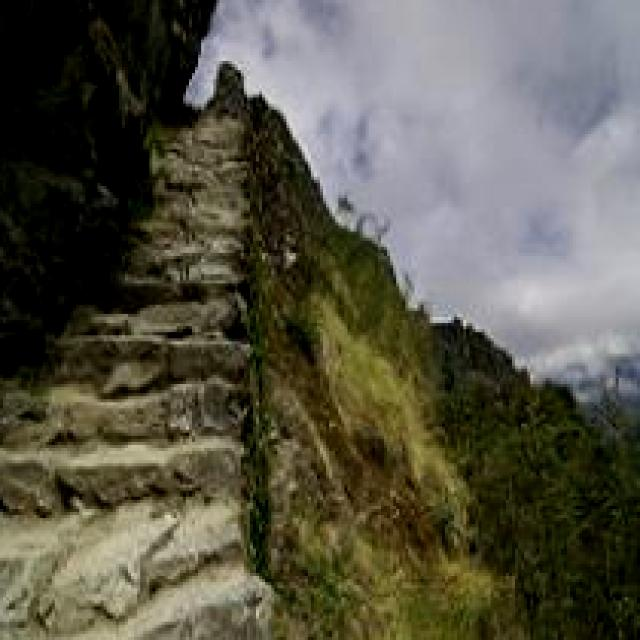upstair: (1, 217, 260, 640)
